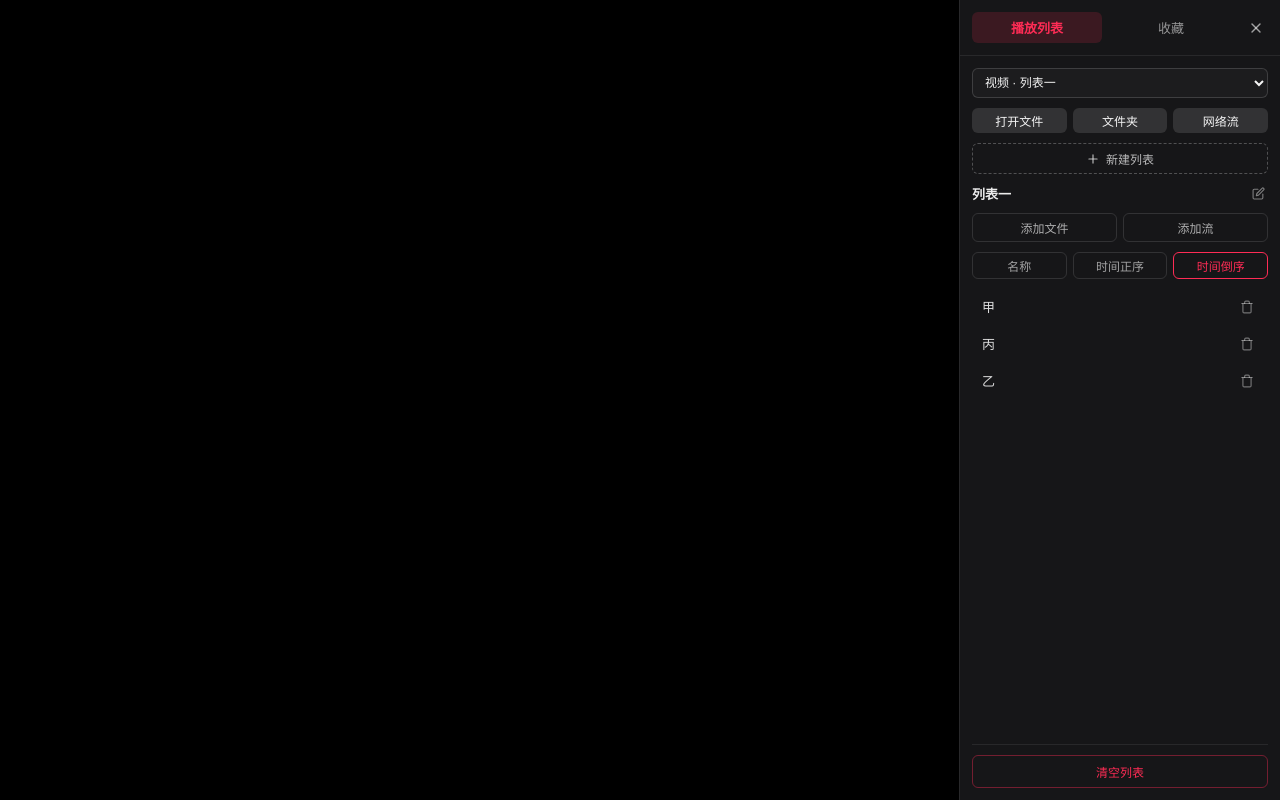
Test: SidePanel › 「打开文件」按钮复用共享逻辑（dialog + fromPaths mock）
What coordinates should you click on to do the following:
click the button "打开文件"
I would click on:
 (1019, 120)
Its box is [972,108,1067,133].
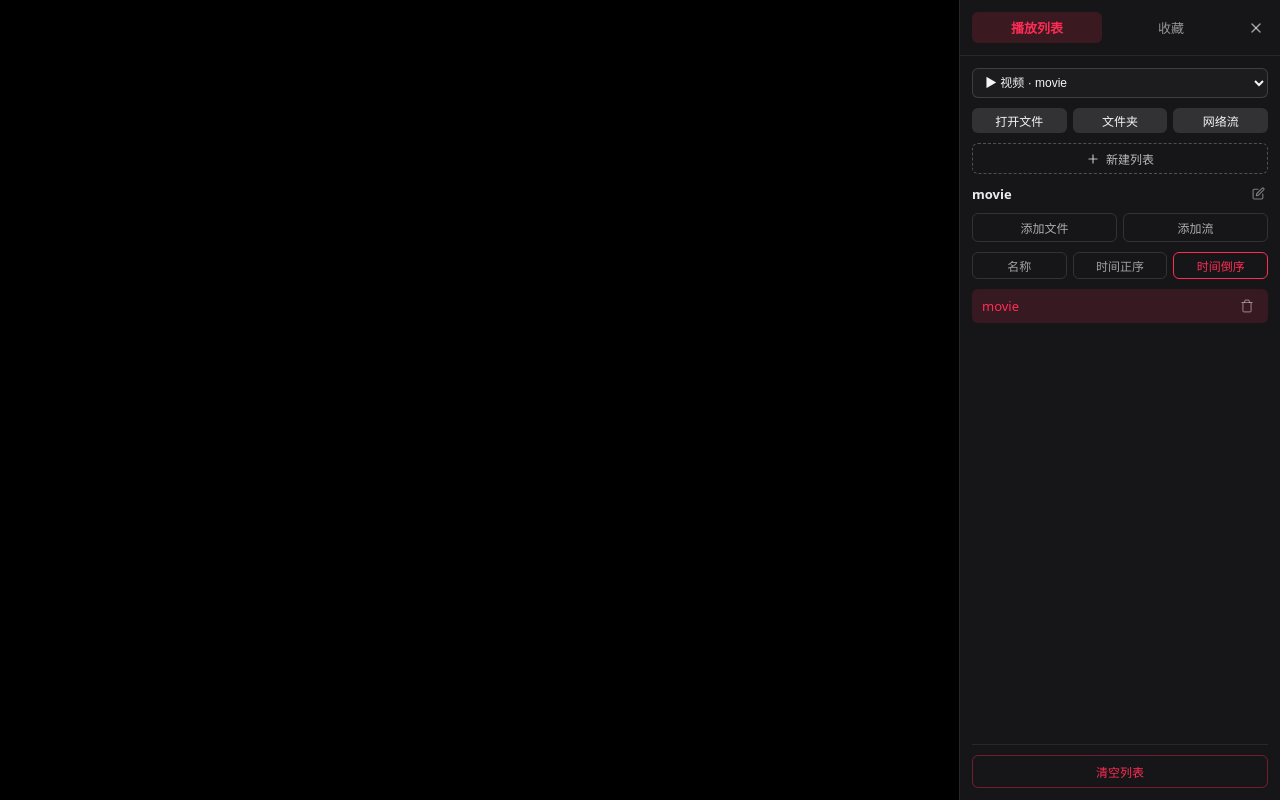
expect the 1st text "movie" is shown: met, box [972,184,1012,202]
